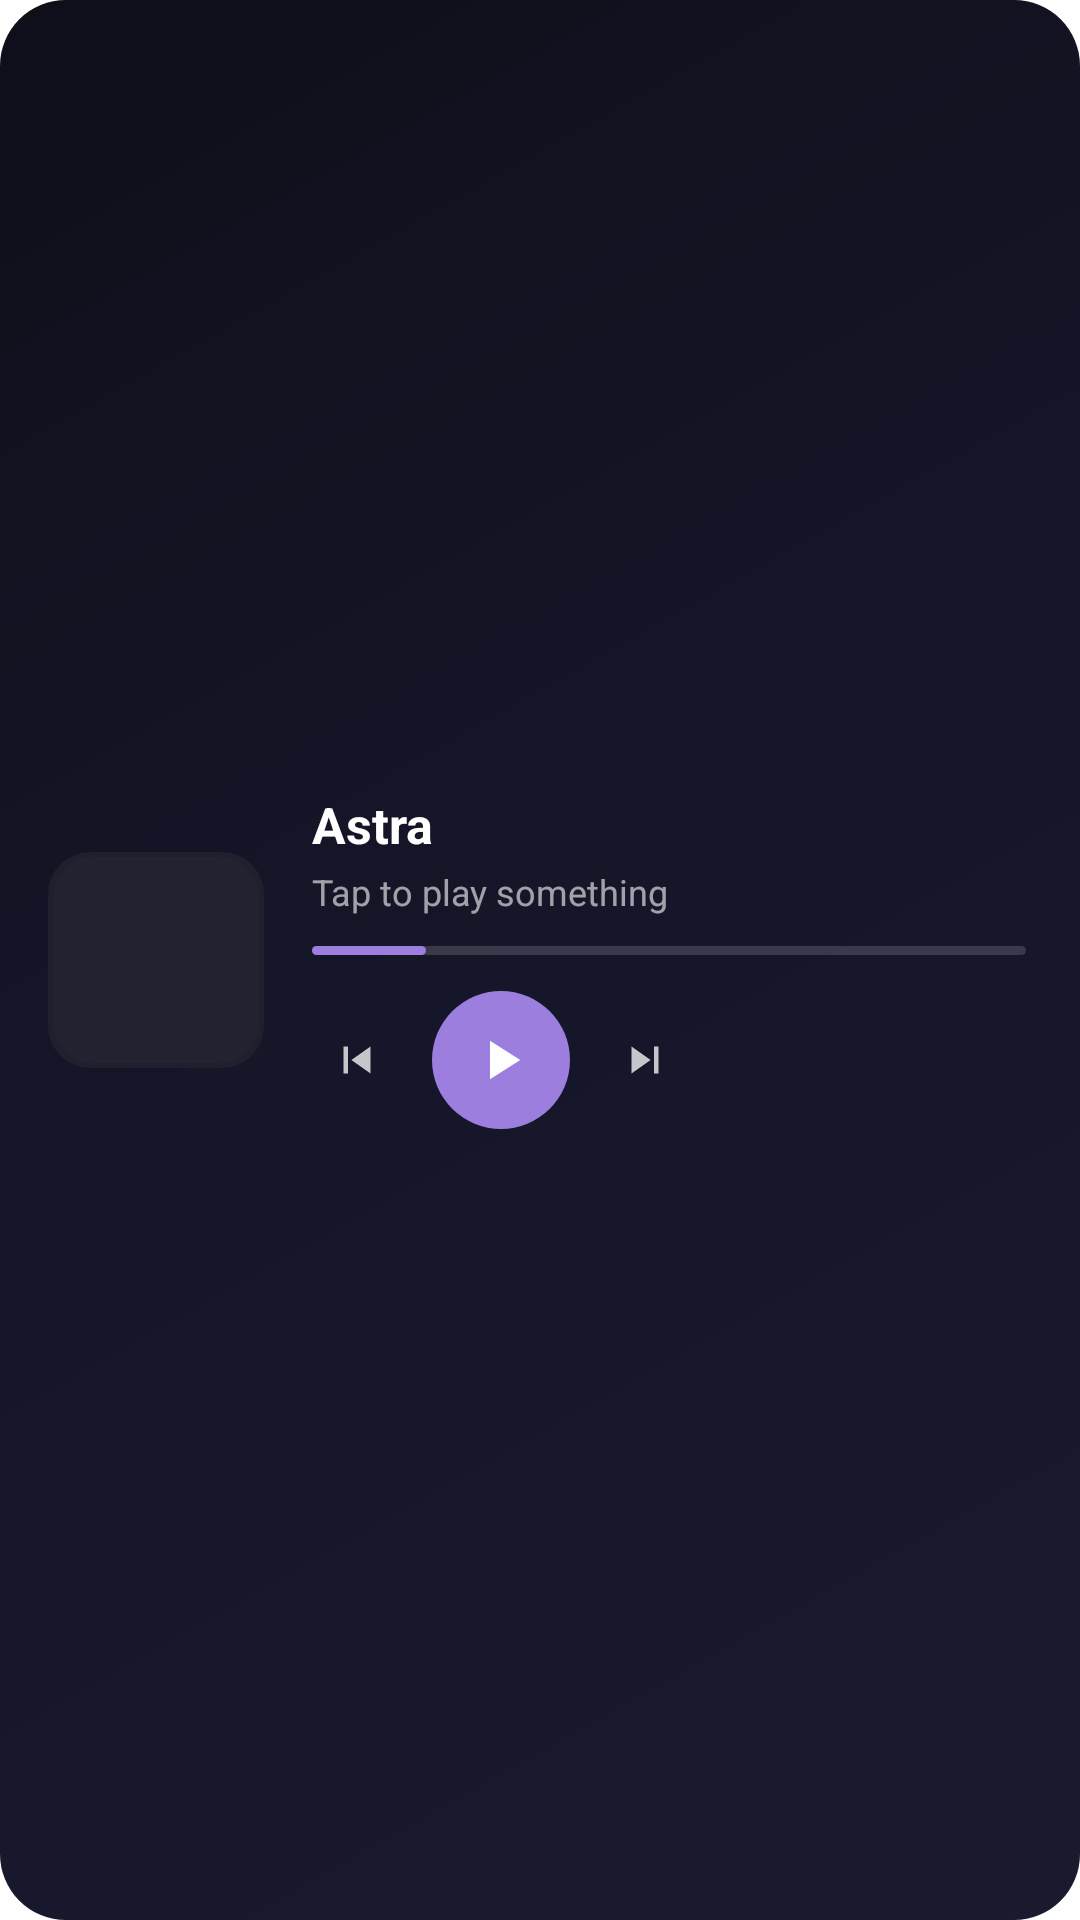

Where to tap for icons on this 1080x1920 app screen, as point (x, y):
widget next: point (645, 1060)
widget play: point (501, 1060)
widget prev: point (357, 1060)
